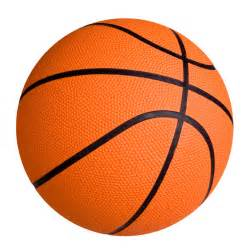basketball: (14, 18, 234, 237)
